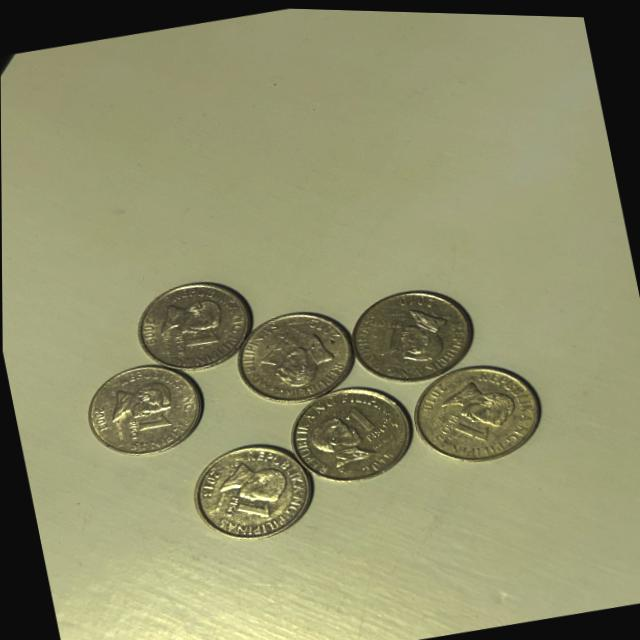1_Old_Front: (114, 397, 183, 444), (431, 399, 494, 450), (339, 393, 392, 447), (218, 487, 281, 528), (164, 321, 222, 362), (255, 325, 303, 369), (371, 309, 410, 358)
